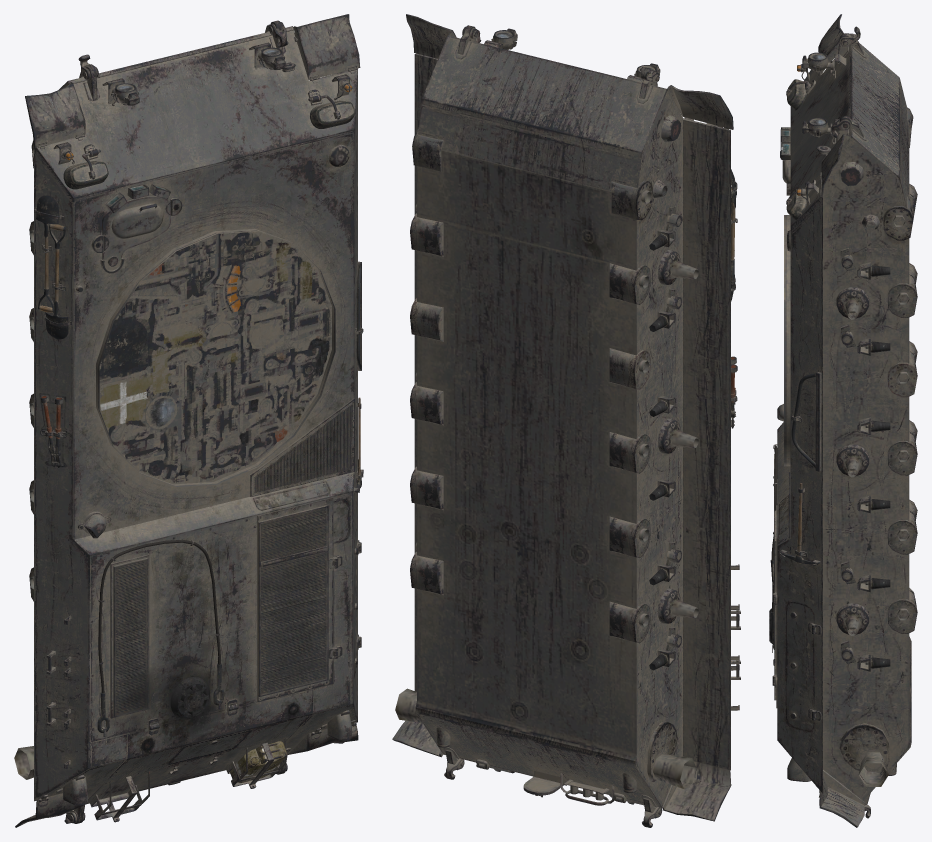
File: Hull.glb
3 views of the same model, side by side, from view 1: azimuth 30°, elevation 25°; view 2: azimuth 150°, elevation 25°; view 3: azimuth 270°, elevation 25° (orthographic). The views are drawn at different scales.
Parts seen in each view (by area): view 1: set_0_group_0; view 2: set_0_group_0; view 3: set_0_group_0.
Boxes of the visible parts, bbox=[...] form: set_0_group_0: bbox=[14, 14, 363, 827]; set_0_group_0: bbox=[392, 14, 740, 827]; set_0_group_0: bbox=[769, 14, 917, 827].
Bounding box in the file's own units: 3.17 × 7.1 × 1.36.
Materials: 1 (1 with a texture image).
